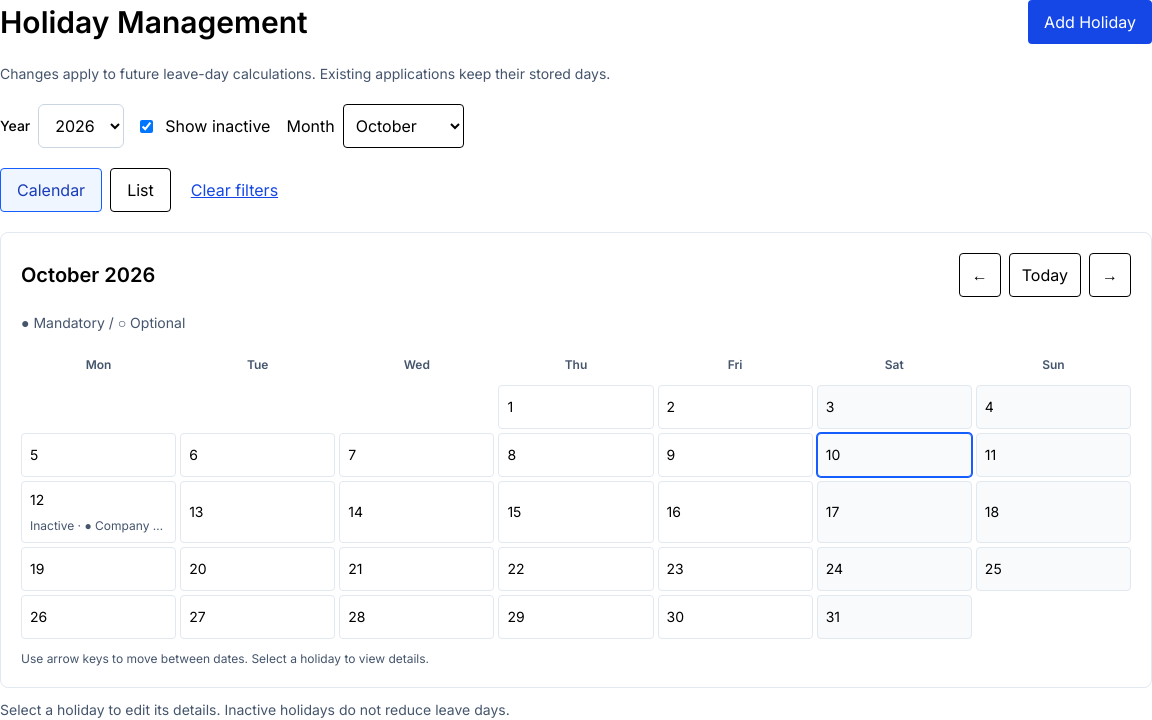
Test case: Phase 14 holiday administration › marks inactive calendar holidays accessibly and opens edit
This screenshot has width=1152, height=720.
Click the button with aria-label "Company Day, Mandatory, Inactive". click: [99, 512]
box: x1=21 y1=481 x2=176 y2=543
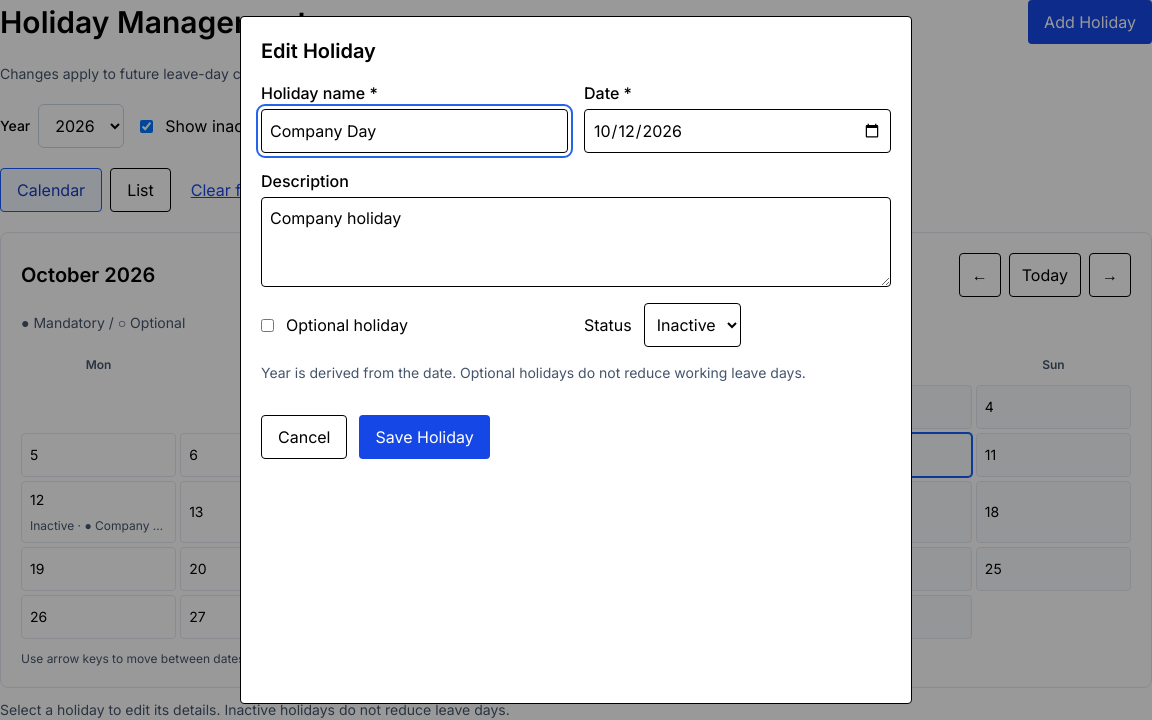
Check: the dropdown labelled "Status" shows "Inactive", box x1=644 y1=303 x2=741 y2=347
Check: the date field labelled "Date *" holds "2026-10-12", box x1=584 y1=109 x2=891 y2=153
